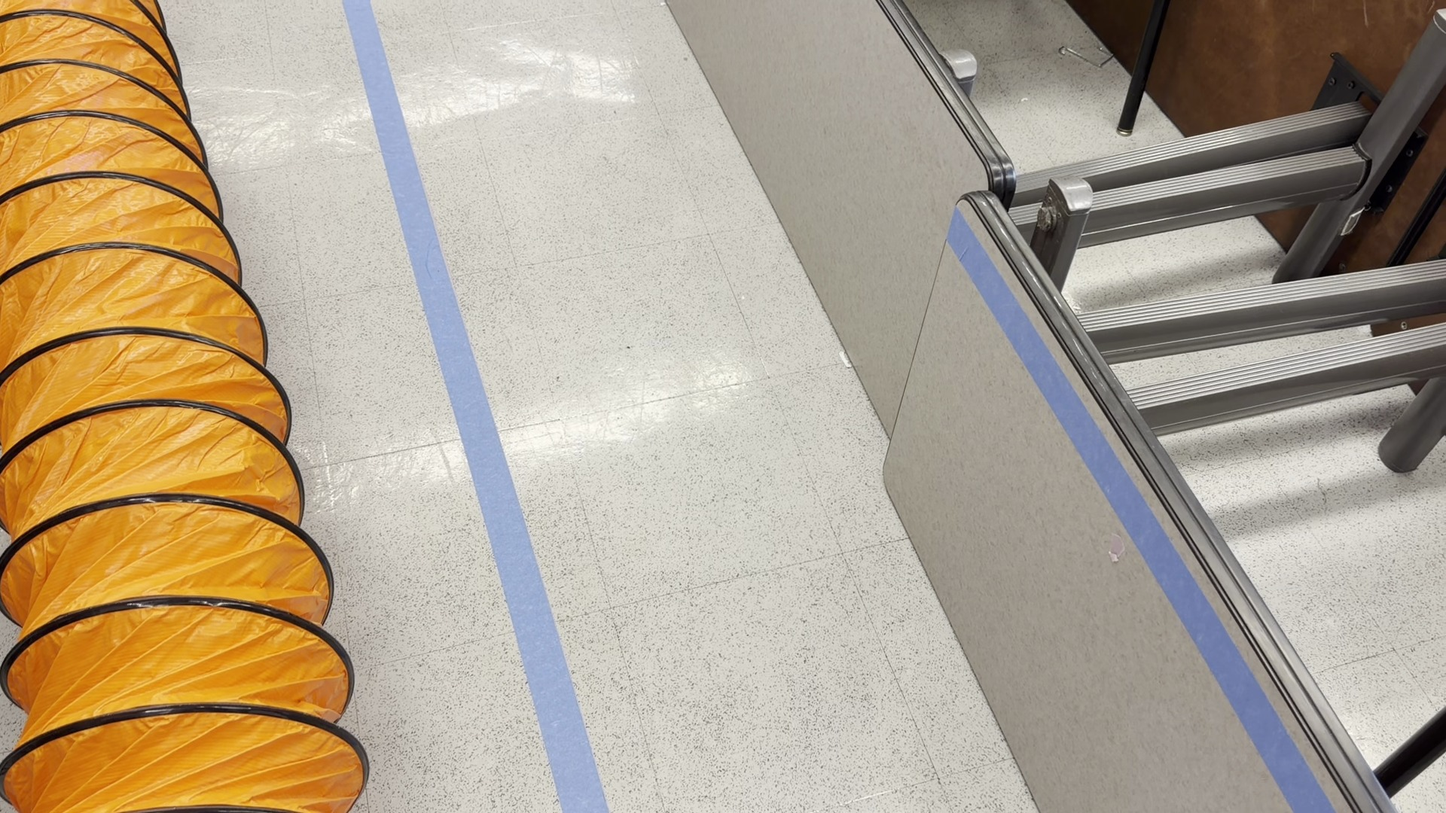racecar: (681, 2, 1443, 813)
